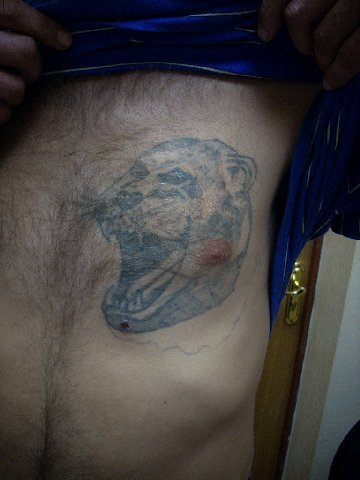tatu5_tigr: (87, 126, 271, 352)
